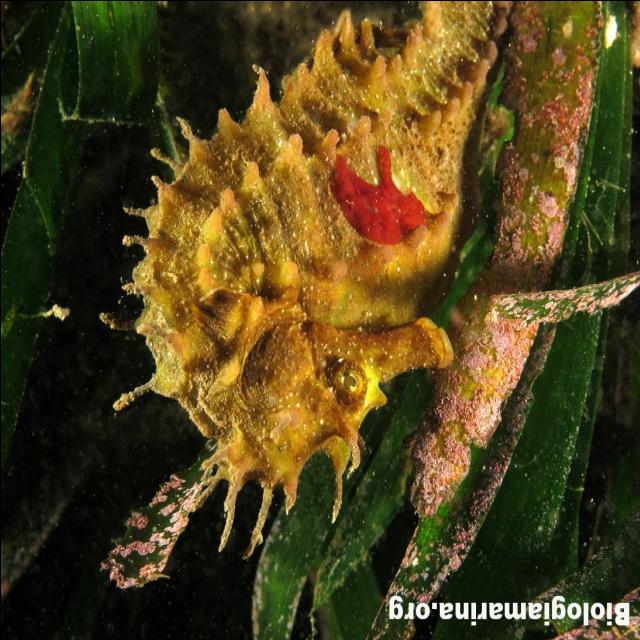Guttu: (199, 300, 457, 504)
